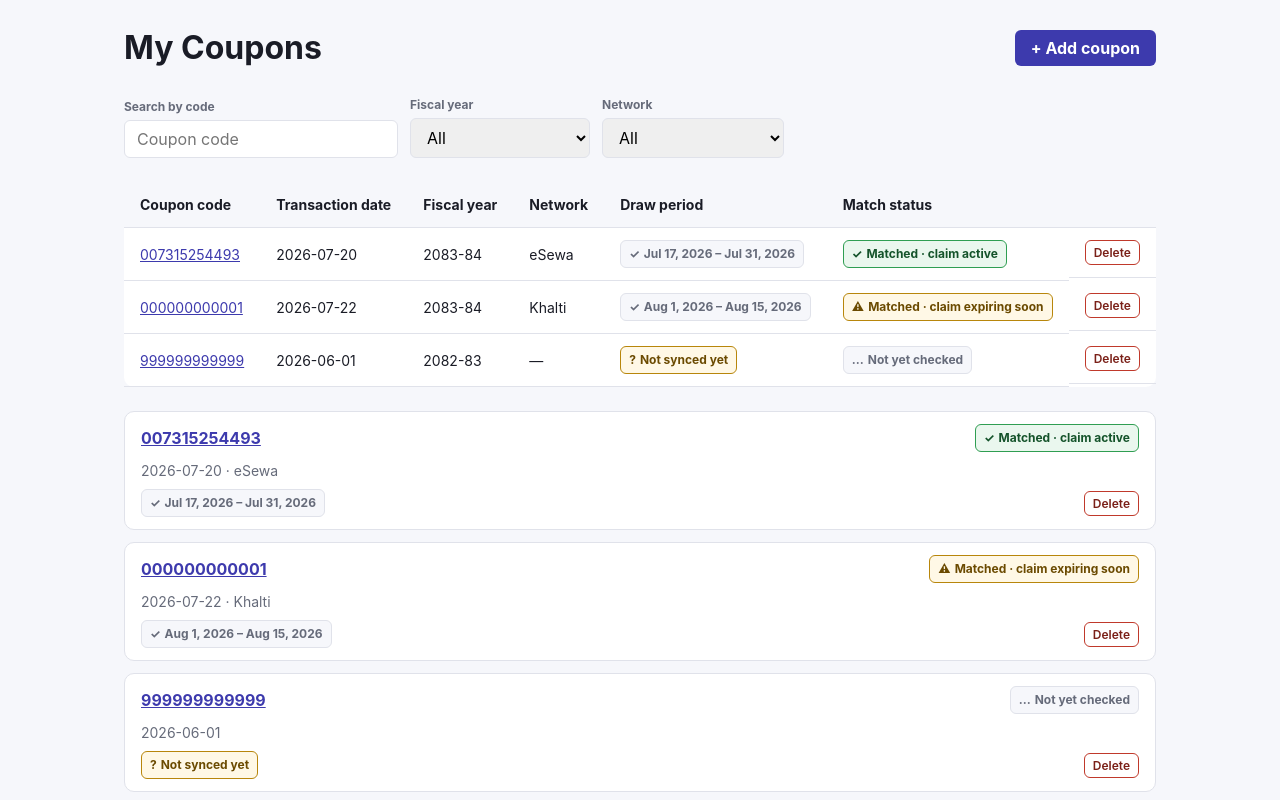
Test: Coupons page › lists coupons from the mock API and filters by search
Expected: the link "007315254493" below "Coupon code" is shown, [140,246,240,262]
Expected: the link "000000000001" below "Coupon code" is shown, [140,298,243,316]
Type "007315254493" into the search field labelled "Search by code". click: (261, 139)
box: [124,120,398,158]
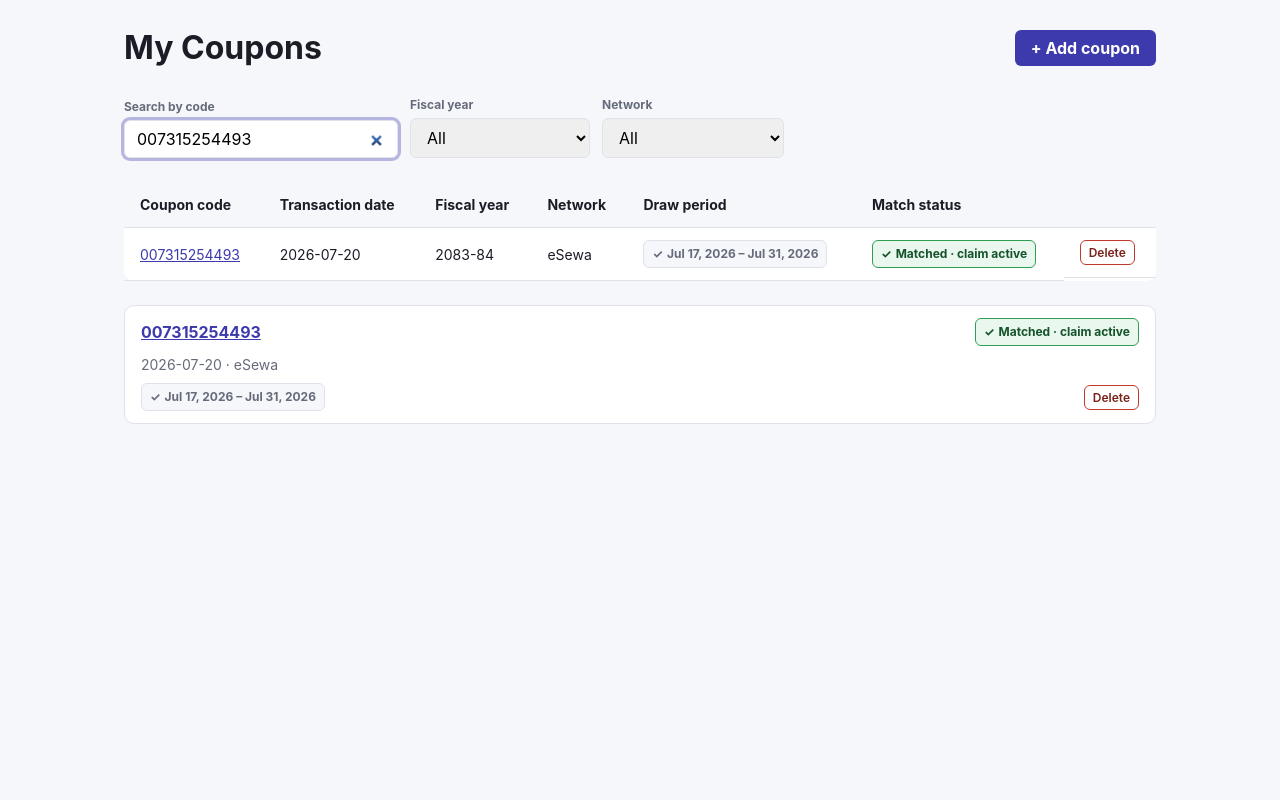
Expected: the link "007315254493" in the row of "2083-84" is shown, [140,246,240,262]
Now the link "000000000001" is gone
